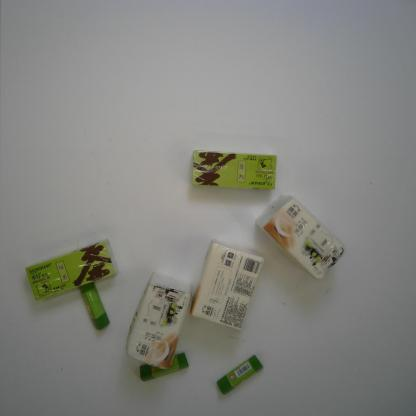Instant Drink: (24, 237, 118, 303), (190, 149, 278, 191)
Stationery: (215, 354, 264, 396), (76, 280, 110, 330), (139, 352, 190, 384)
Tissue: (255, 193, 346, 280), (187, 239, 265, 332), (124, 271, 193, 371)
